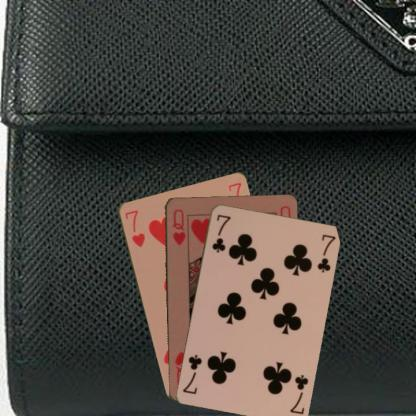7c: (286, 371, 310, 415), (209, 211, 232, 254)
7h: (122, 207, 146, 248)
Qh: (169, 206, 187, 246)
